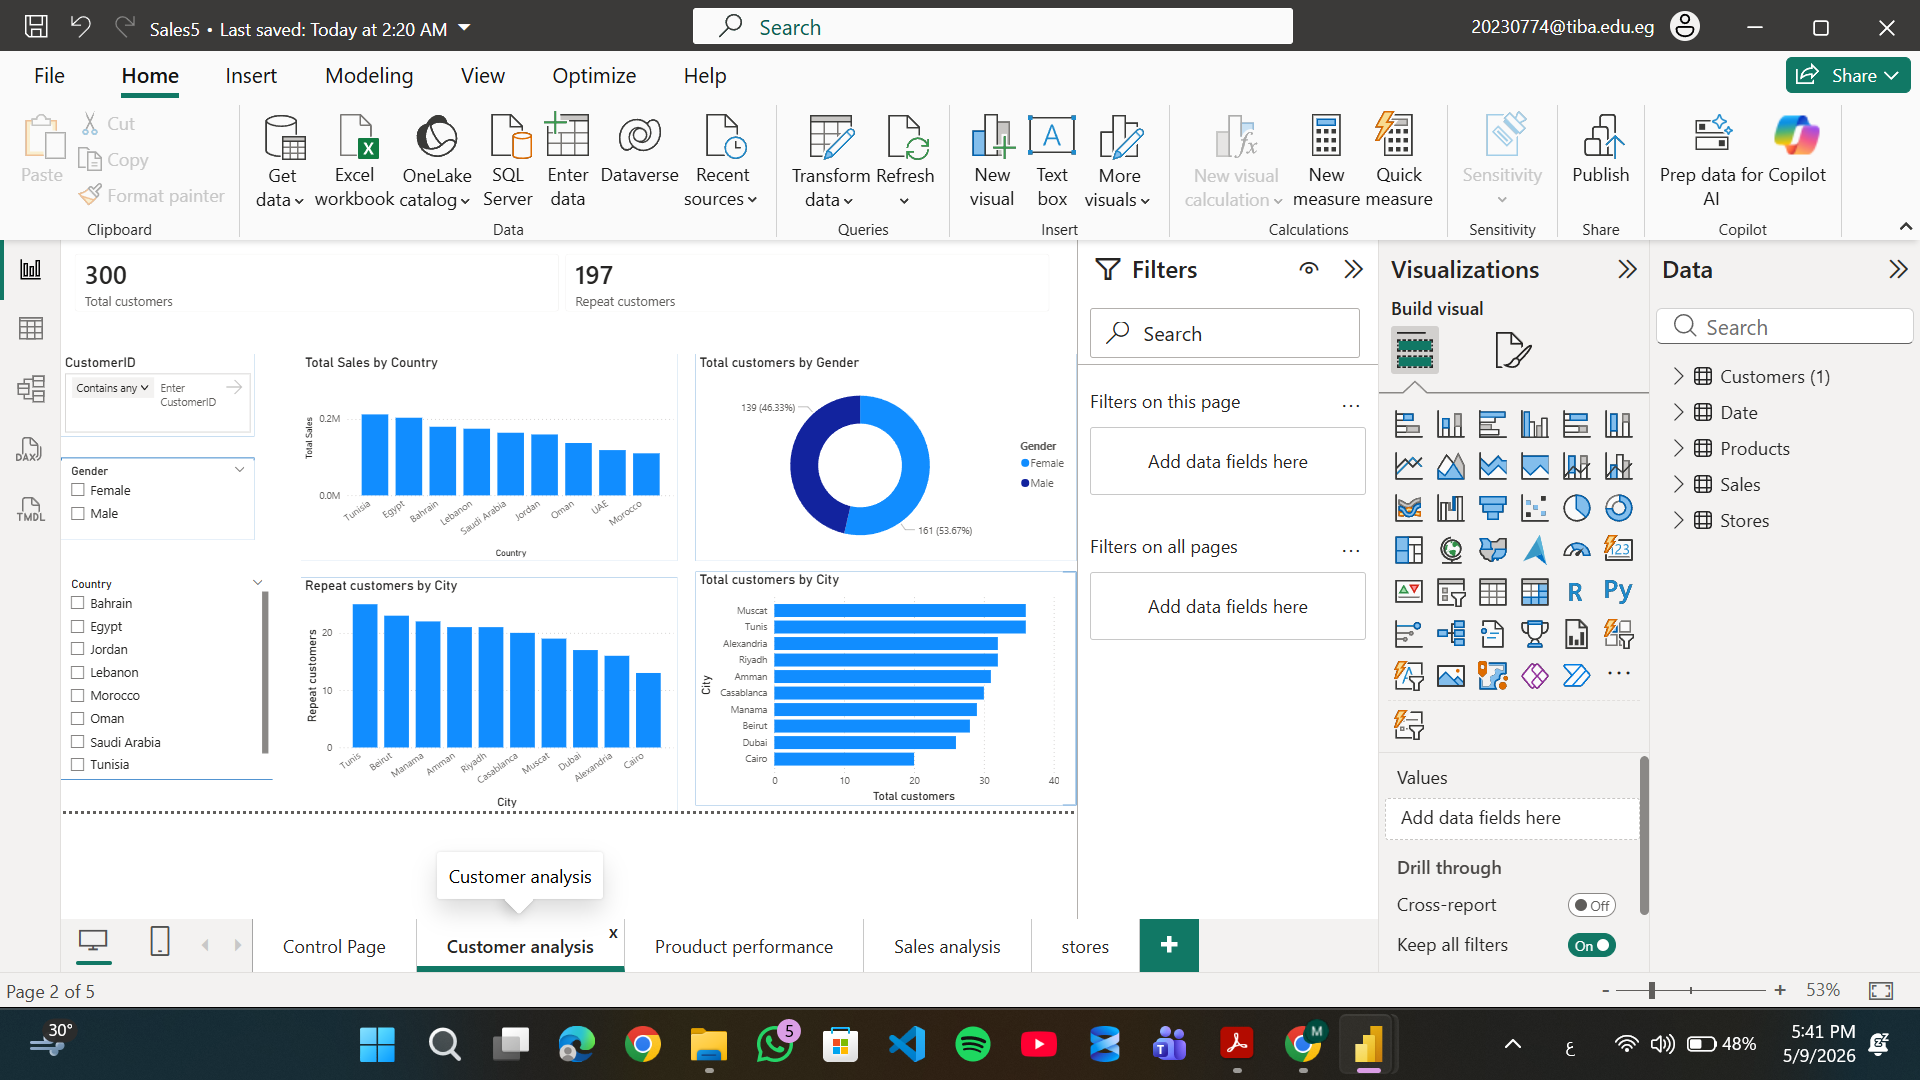

The page's visual inventory and layout, read from the dashboard file:
{"tool":"powerbi","page":{"name":"Customer analysis","canvas":[1280,720],"ordinal":1},"visuals":[{"type":"cardVisual","fields":{"Data":["Customers (1).Totsl customers by country","Customers (1).Repeat customers"]},"box":[0,0,1262.4,107.7],"z":0},{"type":"shape","box":[799.4,143.6,480,260.8],"z":1000},{"type":"shape","box":[799.4,417.6,480,294.8],"z":2000},{"type":"shape","box":[302.4,143.6,474.3,260.8],"z":3000},{"type":"shape","box":[302.4,425.2,474.3,294.8],"z":4000},{"type":"shape","box":[0,274,243.8,103.9],"z":5000},{"type":"shape","box":[0,419.5,266.5,260.8],"z":6000},{"type":"clusteredColumnChart","fields":{"Y":["Customers (1).Repeat customers"],"Category":["Customers (1).City"]},"box":[302.4,425.2,474.3,294.8],"z":7000},{"type":"barChart","fields":{"Y":["Customers (1).Total customers"],"Category":["Customers (1).City"]},"box":[799.4,417.6,463,294.8],"z":8000},{"type":"donutChart","fields":{"Category":["Customers (1).Gender"],"Y":["Customers (1).Total customers"]},"box":[799.4,143.6,480,260.8],"z":9000},{"type":"clusteredColumnChart","fields":{"Y":["Sales.Total Sales"],"Category":["Customers (1).Country"]},"box":[302.4,143.6,474.3,260.8],"z":10000},{"type":"slicer","fields":{"Values":["Customers (1).Gender"]},"box":[0,277.8,243.8,100.2],"z":11000},{"type":"slicer","fields":{"Values":["Customers (1).Country"]},"box":[0,419.5,266.5,258.9],"z":12000},{"type":"shape","box":[0,143.6,243.8,103.9],"z":13000},{"type":"textSlicer","fields":{"Values":["Customers (1).CustomerID"]},"box":[0,143.6,243.8,103.9],"z":14000}]}

Visuals, with their boxes on the page's 1280x720 design canvas (x1, y1, x2, y2). These are canvas units, not pixel positions in the 1920x1080 screenshot, which may show the page scaled, cropped or inside an application window:
cardVisual - Customers (1).Totsl customers by country x Customers (1).Repeat customers: 0:0:1262:108
shape: 799:144:1279:404
shape: 799:418:1279:712
shape: 302:144:777:404
shape: 302:425:777:720
shape: 0:274:244:378
shape: 0:420:266:680
clusteredColumnChart - Customers (1).Repeat customers x Customers (1).City: 302:425:777:720
barChart - Customers (1).Total customers x Customers (1).City: 799:418:1262:712
donutChart - Customers (1).Gender x Customers (1).Total customers: 799:144:1279:404
clusteredColumnChart - Sales.Total Sales x Customers (1).Country: 302:144:777:404
slicer - Customers (1).Gender: 0:278:244:378
slicer - Customers (1).Country: 0:420:266:678
shape: 0:144:244:248
textSlicer - Customers (1).CustomerID: 0:144:244:248
